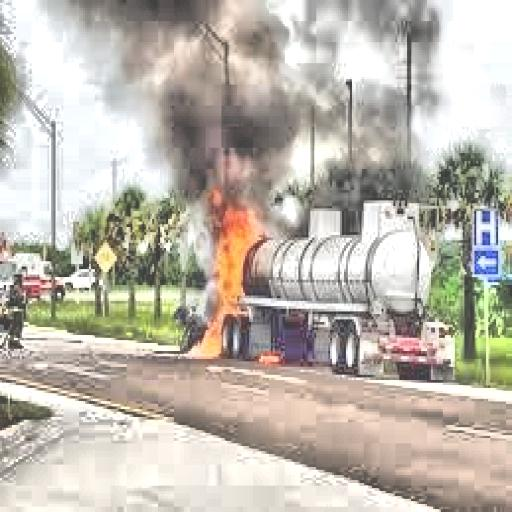fire: (188, 201, 277, 364)
